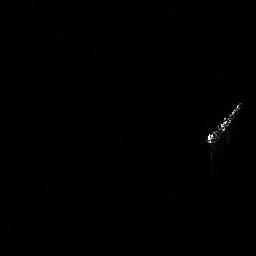ship: (205, 96, 245, 162)
